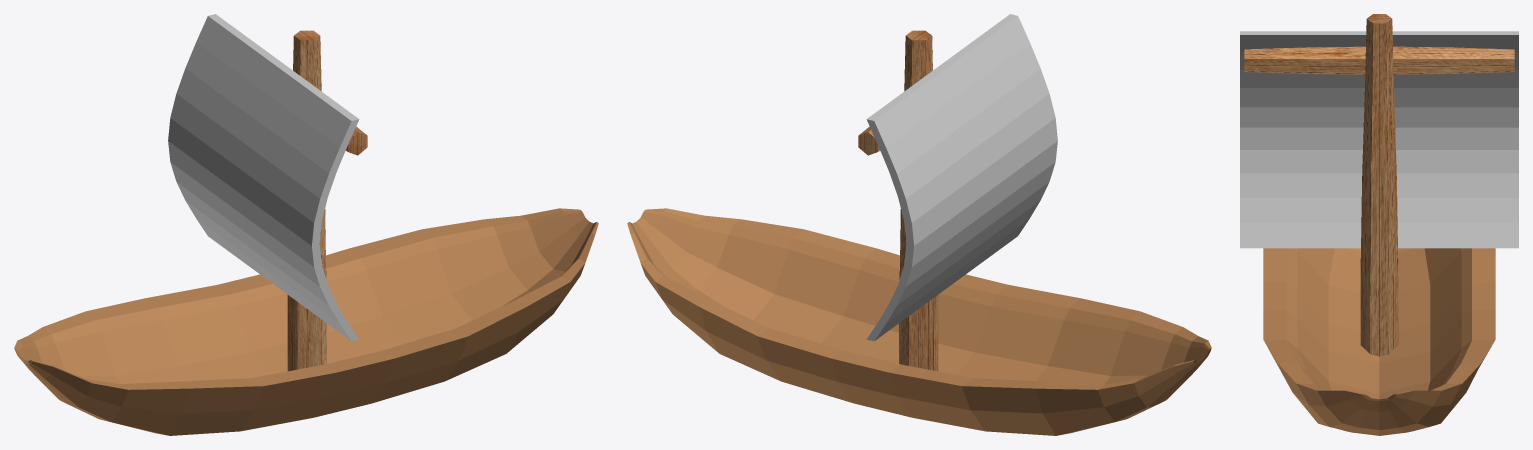
Rendered from Port.fbx.
3 renders of one model, left to right at view 1: azimuth 30°, elevation 25°; view 2: azimuth 150°, elevation 25°; view 3: azimuth 270°, elevation 25°, orthographic. The views are drawn at different scales.
Parts seen in each view (by area): view 1: Cube.001; view 2: Cube.001; view 3: Cube.001.
Boxes of the visible parts, <box> form: Cube.001: <box>14,14,598,435</box>; Cube.001: <box>627,14,1211,435</box>; Cube.001: <box>1240,14,1518,435</box>.
Size of the model in its own units: 50.39 by 30.75 by 22.17.
